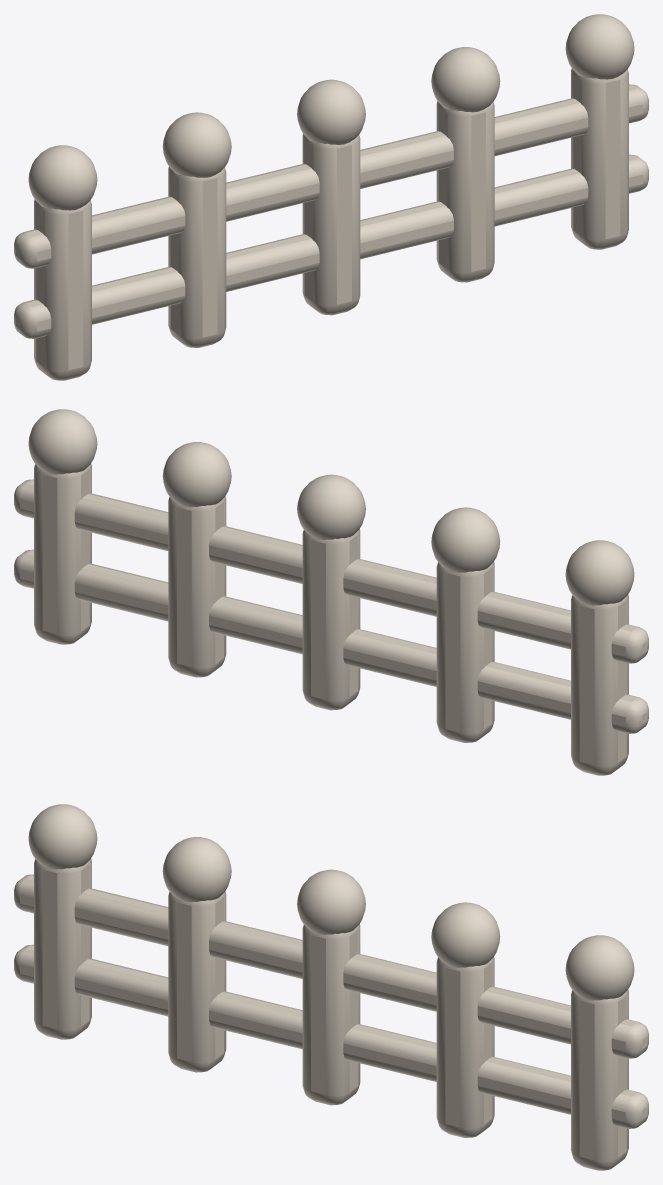
The model's file is stage-fence.glb.
The picture shows the model from 3 angles, top to bottom: view 1: azimuth 30°, elevation 25°; view 2: azimuth 150°, elevation 25°; view 3: azimuth 330°, elevation 25°; orthographic projection.
Parts seen in each view (by area): view 1: Rail40, Rail85, Post1, Post2, Post3, Post0, Post4, Cap4, Cap0, Cap2, Cap1, Cap3; view 2: Rail40, Rail85, Post1, Post2, Post3, Post0, Post4, Cap4, Cap0, Cap2, Cap1, Cap3; view 3: Rail40, Rail85, Post3, Post2, Post1, Post4, Post0, Cap0, Cap2, Cap4, Cap3, Cap1.
Boxes of the visible parts, x1,y1,x2,y2 form: Rail40: [14, 154, 648, 338]; Rail85: [14, 84, 648, 268]; Post1: [168, 167, 226, 347]; Post2: [302, 134, 360, 315]; Post3: [436, 101, 494, 282]; Post0: [34, 199, 91, 380]; Post4: [571, 68, 628, 249]; Cap4: [565, 14, 634, 79]; Cap0: [28, 145, 97, 210]; Cap2: [297, 79, 365, 144]; Cap1: [162, 112, 231, 177]; Cap3: [431, 47, 500, 112]; Rail40: [14, 549, 648, 733]; Rail85: [14, 479, 648, 663]; Post1: [436, 562, 494, 742]; Post2: [302, 529, 360, 710]; Post3: [168, 496, 226, 677]; Post0: [571, 594, 628, 775]; Post4: [34, 463, 91, 644]; Cap4: [28, 409, 97, 474]; Cap0: [565, 540, 634, 605]; Cap2: [297, 474, 365, 539]; Cap1: [431, 507, 500, 572]; Cap3: [162, 442, 231, 507]; Rail40: [14, 944, 648, 1128]; Rail85: [14, 874, 648, 1058]; Post3: [436, 957, 494, 1137]; Post2: [302, 924, 360, 1105]; Post1: [168, 891, 226, 1072]; Post4: [571, 989, 628, 1170]; Post0: [34, 858, 91, 1039]; Cap0: [28, 804, 97, 869]; Cap2: [297, 869, 365, 934]; Cap4: [565, 935, 634, 1000]; Cap3: [431, 902, 500, 967]; Cap1: [162, 837, 231, 902].
Size of the model in its own units: 0.42 by 0.145 by 0.04.
